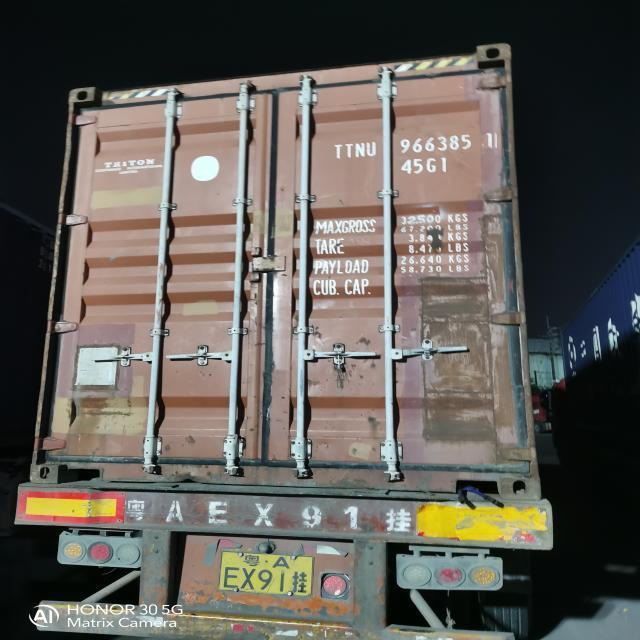ISO: (400, 157, 450, 175)
container_number: (337, 130, 501, 154)
